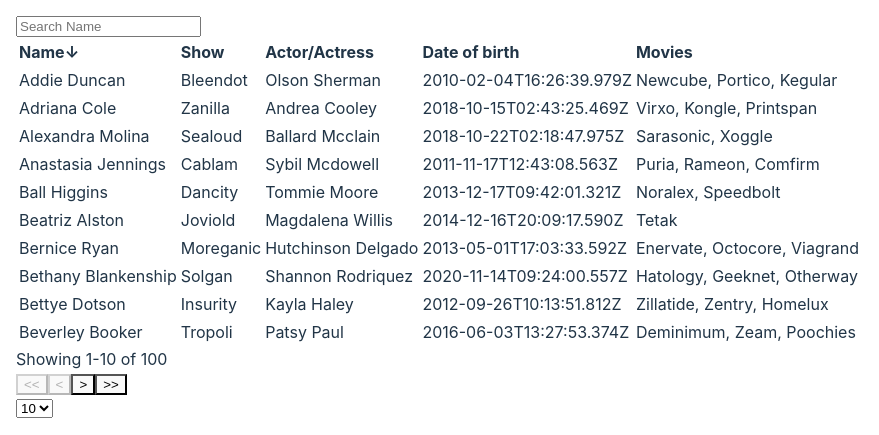
Test: People › Pagination › should go the previous page
This screenshot has width=879, height=435.
Expected: the text "Showing 1-10 of 100" is shown, [16,349,168,369]
Click the button named "Next".
click(83, 384)  # box [71,374,95,395]
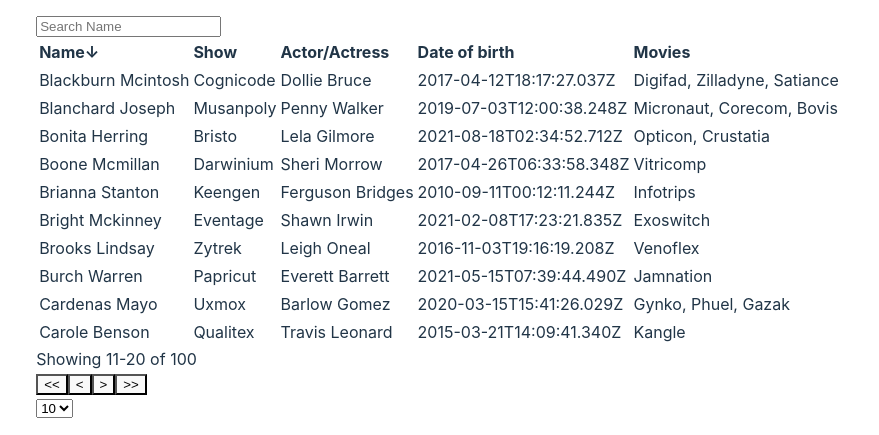
Now the text "Showing 11-20 of 100" is shown, box [36,349,197,369]
Click the button named "Previous".
click(80, 384)  # box [68,374,92,395]
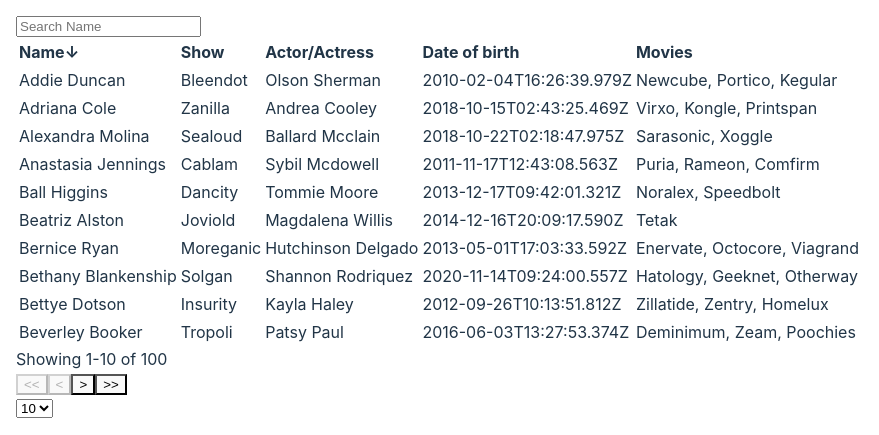
Now the text "Showing 1-10 of 100" is shown, box [16,349,168,369]
